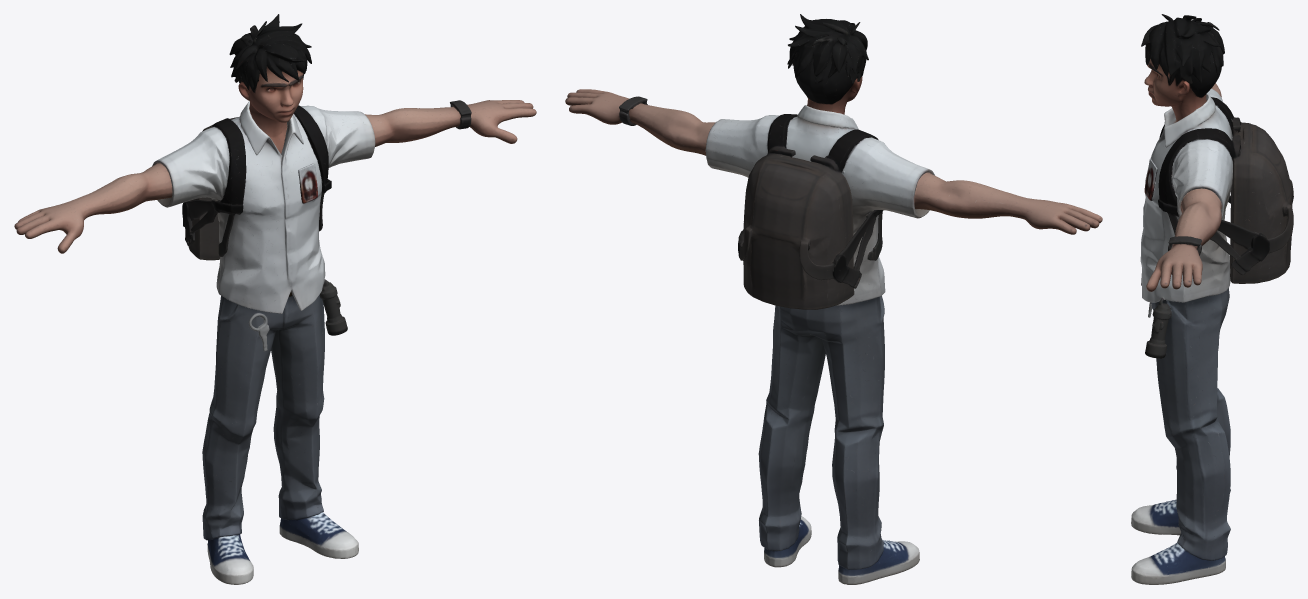
File: raka.glb
The picture shows the model from 3 angles, left to right: view 1: azimuth 30°, elevation 25°; view 2: azimuth 150°, elevation 25°; view 3: azimuth 270°, elevation 25°; orthographic projection. The views are drawn at different scales.
Visible parts, largest first — view 1: world; view 2: world; view 3: world.
Part boxes in pixels (x1,y1,x2,y2): world: [14, 14, 536, 584]; world: [565, 14, 1102, 584]; world: [1131, 14, 1293, 584].
Size of the model in its own units: 1 by 0.9781 by 0.2694.
Materials: 1 (1 with a texture image).
